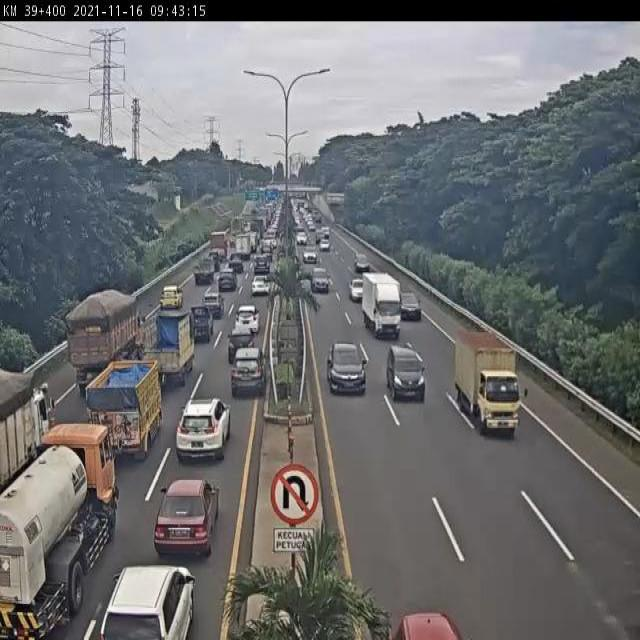car: (102, 565, 193, 640), (155, 480, 218, 557), (175, 398, 232, 466), (323, 341, 372, 403), (384, 338, 426, 406), (229, 354, 264, 406), (228, 335, 254, 369), (396, 290, 422, 318), (190, 262, 212, 290), (309, 263, 330, 292), (159, 284, 183, 309), (234, 307, 257, 333), (348, 275, 367, 305), (201, 295, 222, 321), (352, 247, 372, 273), (216, 272, 236, 293), (250, 275, 269, 297), (254, 259, 271, 280), (302, 243, 317, 265), (227, 256, 243, 275), (318, 237, 333, 255), (260, 242, 273, 262), (205, 254, 217, 274)
small truck: (447, 327, 527, 442), (186, 306, 213, 342)
truck-l-: (62, 292, 140, 396), (0, 371, 47, 496)
truck-m-: (1, 422, 119, 638), (88, 363, 162, 461), (138, 312, 192, 389), (360, 273, 399, 336), (208, 232, 227, 263), (235, 234, 252, 262)
